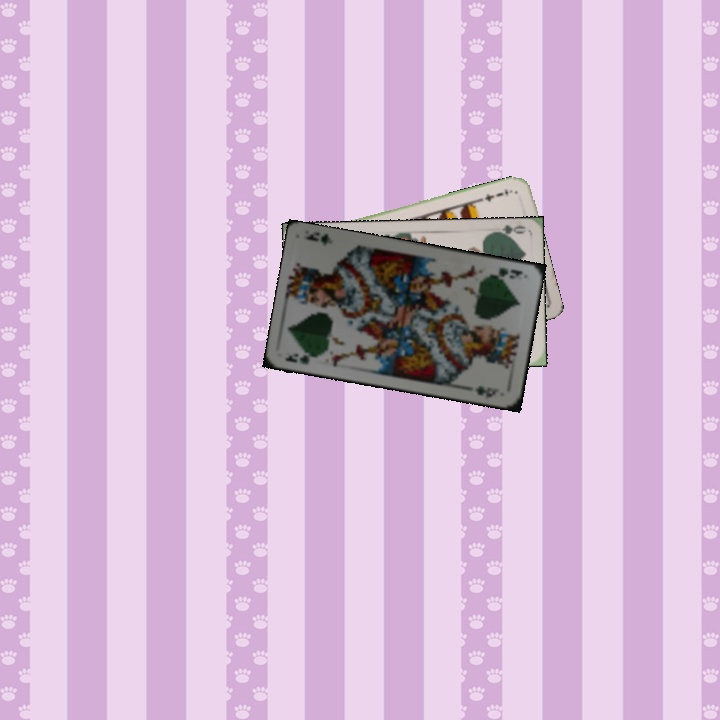E7: (476, 184, 515, 204)
GK: (281, 348, 321, 367), (494, 263, 525, 281)
GO: (486, 221, 527, 241)
